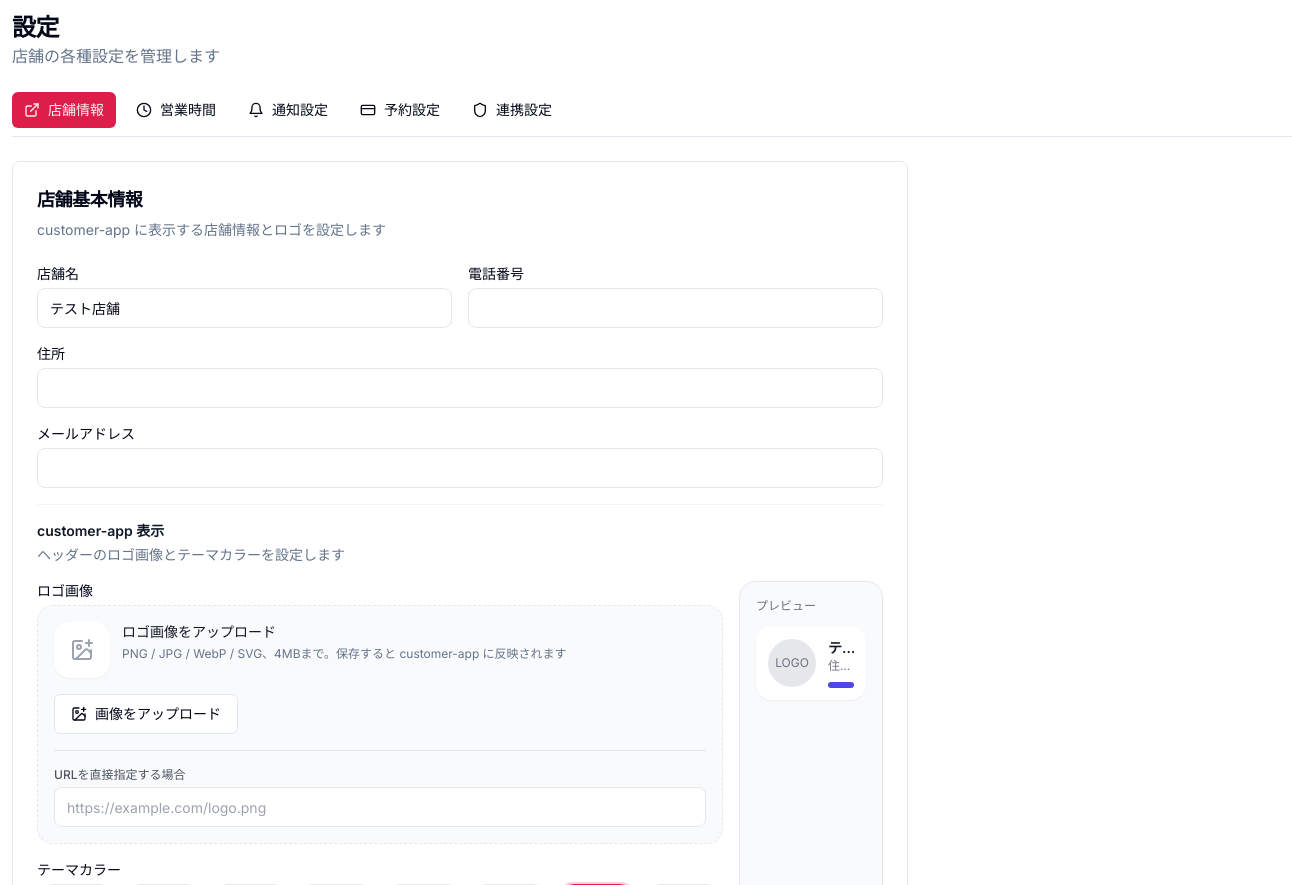
SettingsPage › 通知設定を初期表示時に API から読み込む
The image size is (1292, 885).
Click the button "通知設定".
click(288, 110)  # box [236,92,340,128]
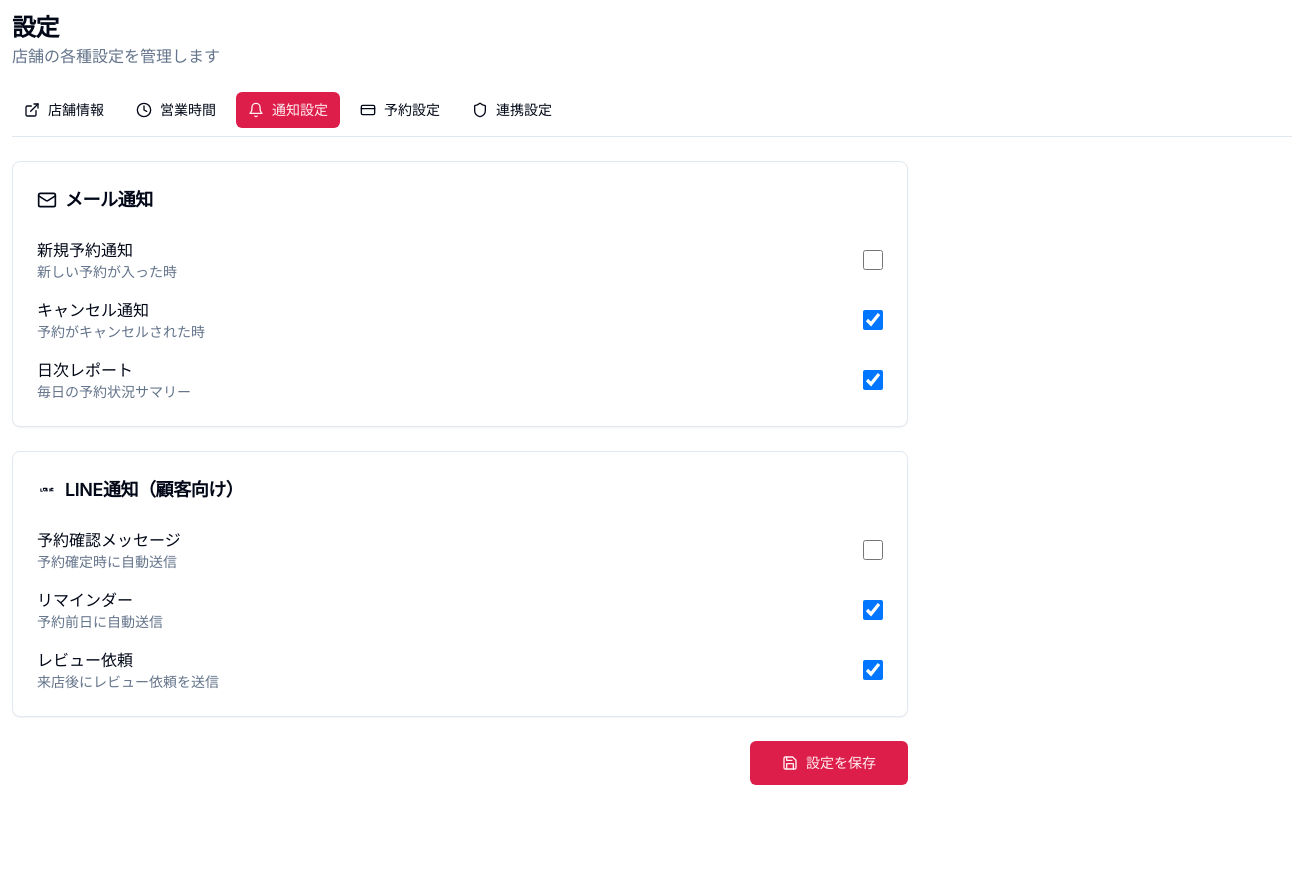
Now the checkbox named "新規予約通知" is not checked, box [863,250,883,270]
Now the checkbox named "予約確認メッセージ" is not checked, box [863,540,883,560]
